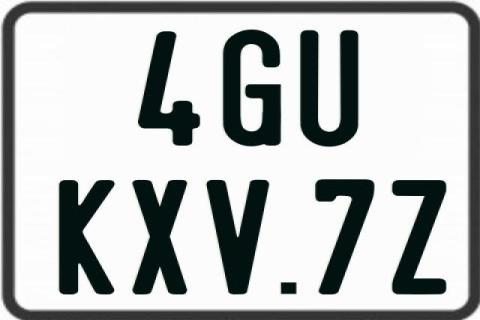0: (137, 30, 204, 148), (314, 178, 376, 296)
G: (221, 28, 279, 147)
K: (58, 178, 116, 294)
U: (299, 31, 360, 147)
V: (204, 179, 270, 297)
X: (134, 178, 191, 294)
Z: (389, 178, 448, 294)
